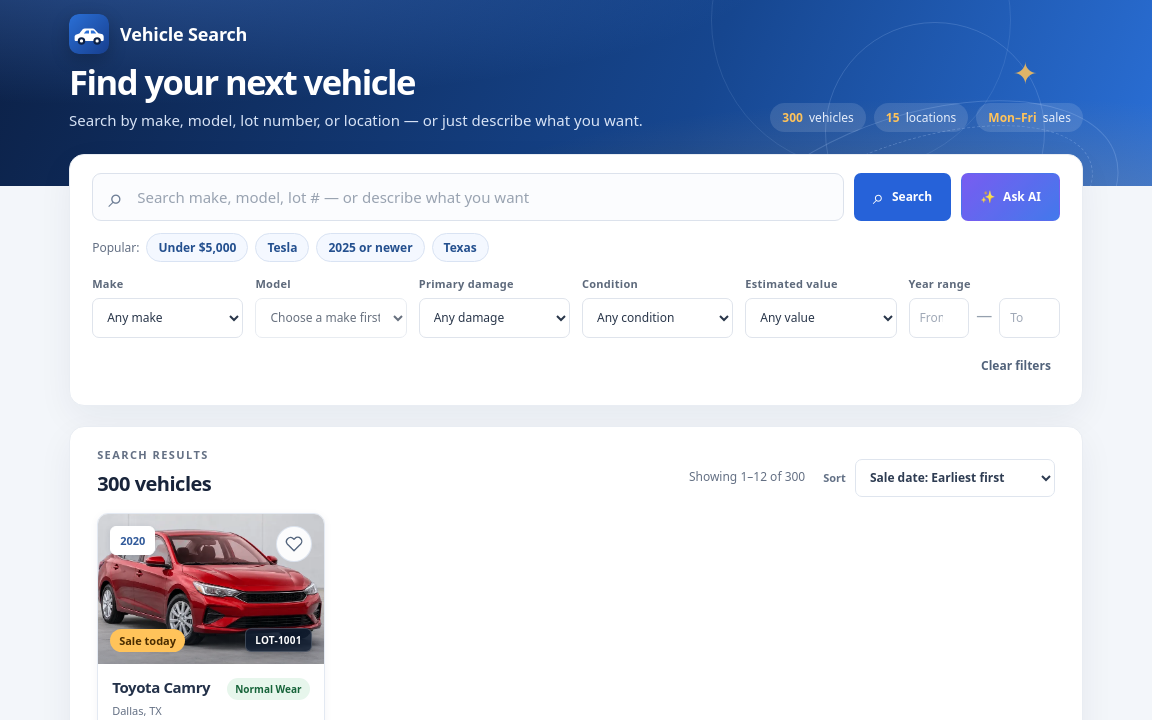
vehicle search interactions › restores default results as soon as the last text filter is cleared
This screenshot has width=1152, height=720.
Expected: the heading "300 vehicles" is shown, x1=97 y1=470 x2=211 y2=497
Type "HondaXYZ" into the search field named "search by vehicle" at (482, 197), box x1=135 y1=186 x2=828 y2=208
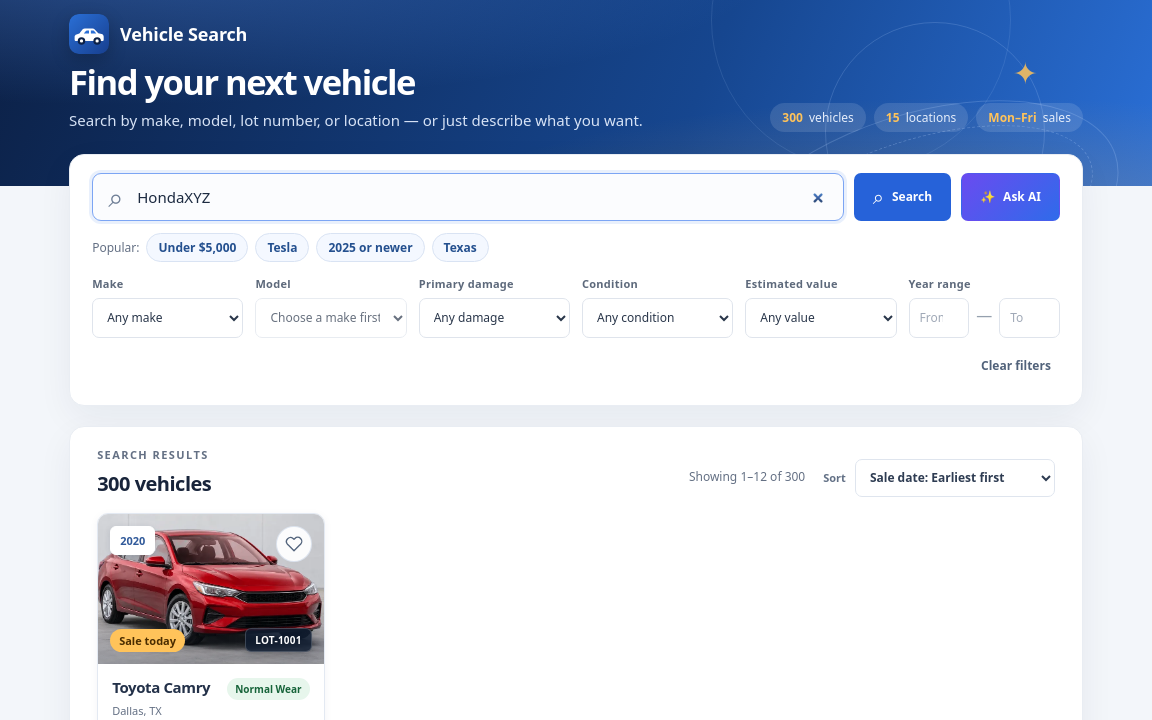
Click the button with aria-label "Search vehicles" at (902, 197), box x1=854 y1=173 x2=951 y2=221
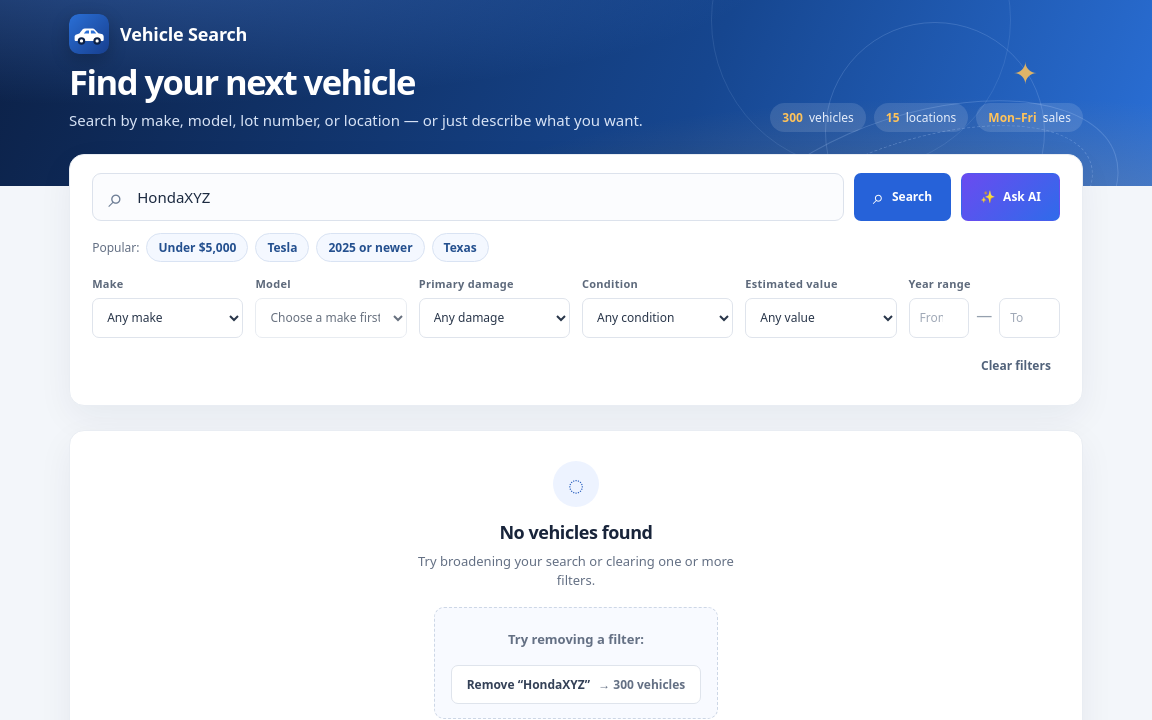
Expected: the heading "No vehicles found" is shown, x1=499 y1=520 x2=653 y2=544
Clear the search field named "search by vehicle" at (482, 197), box x1=135 y1=186 x2=828 y2=208
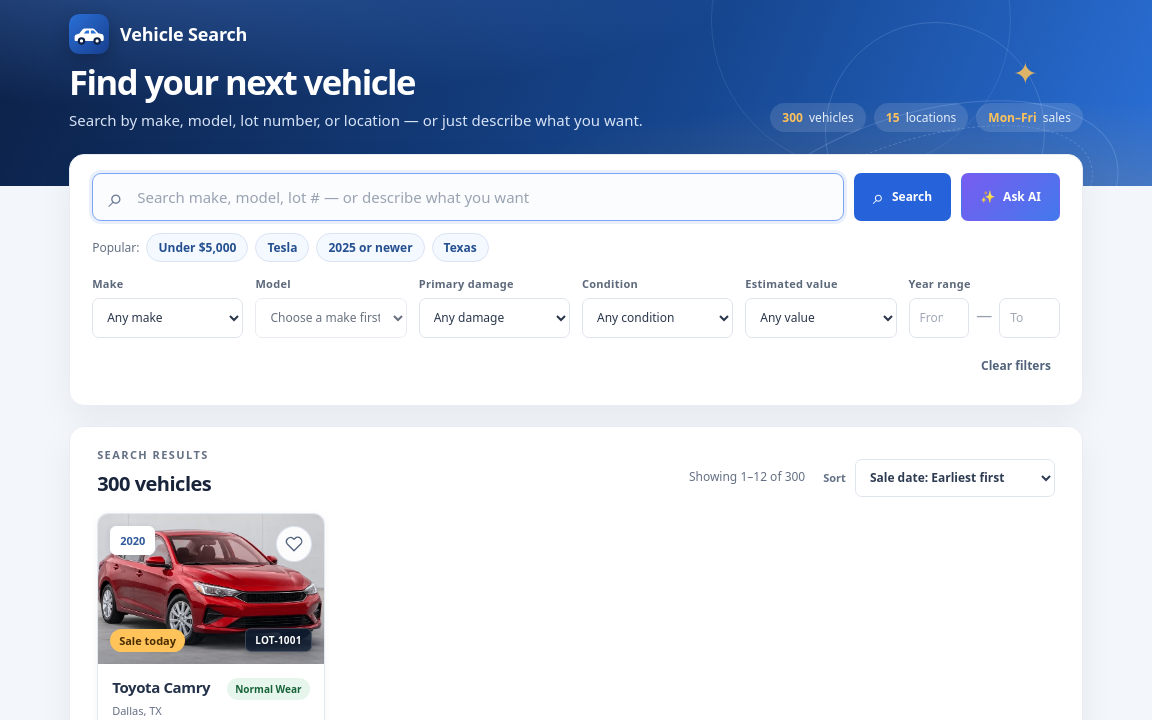
Expected: the heading "300 vehicles" is shown, x1=97 y1=470 x2=211 y2=497
Expected: the heading "No vehicles found" is gone
